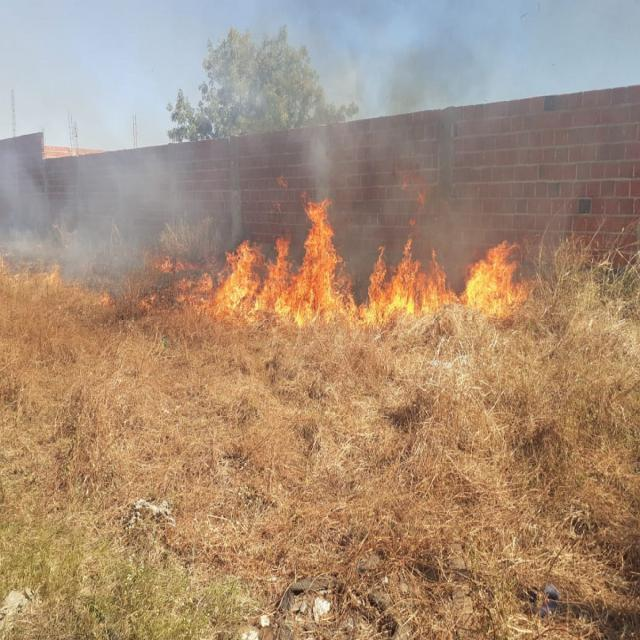Fire: (211, 200, 528, 325), (94, 246, 211, 318)
Smoke: (4, 116, 189, 245)
